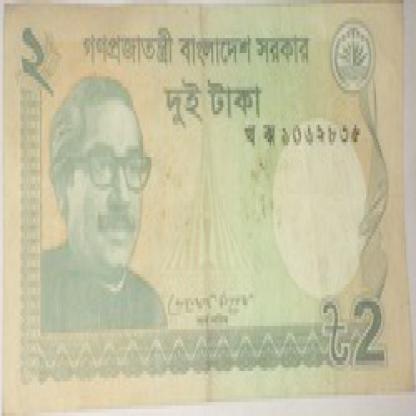two taka: (346, 301, 406, 378), (17, 28, 65, 100)
